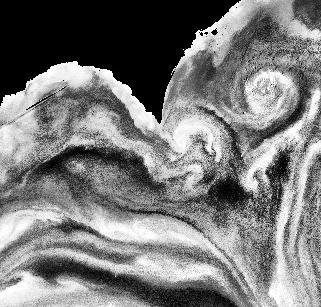CE: (226, 55, 300, 130)
